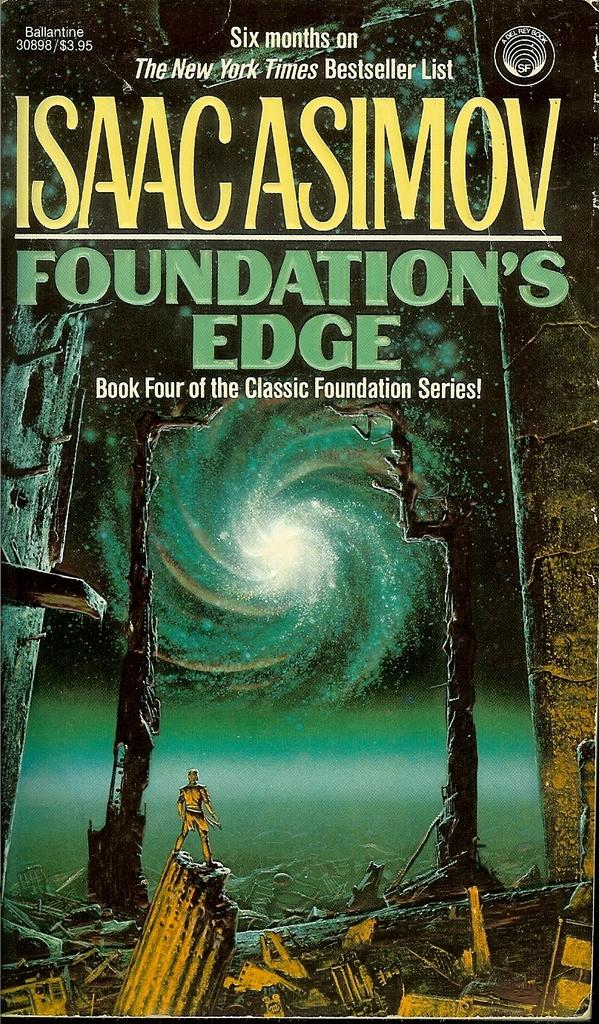Book: (2, 0, 597, 1021)
